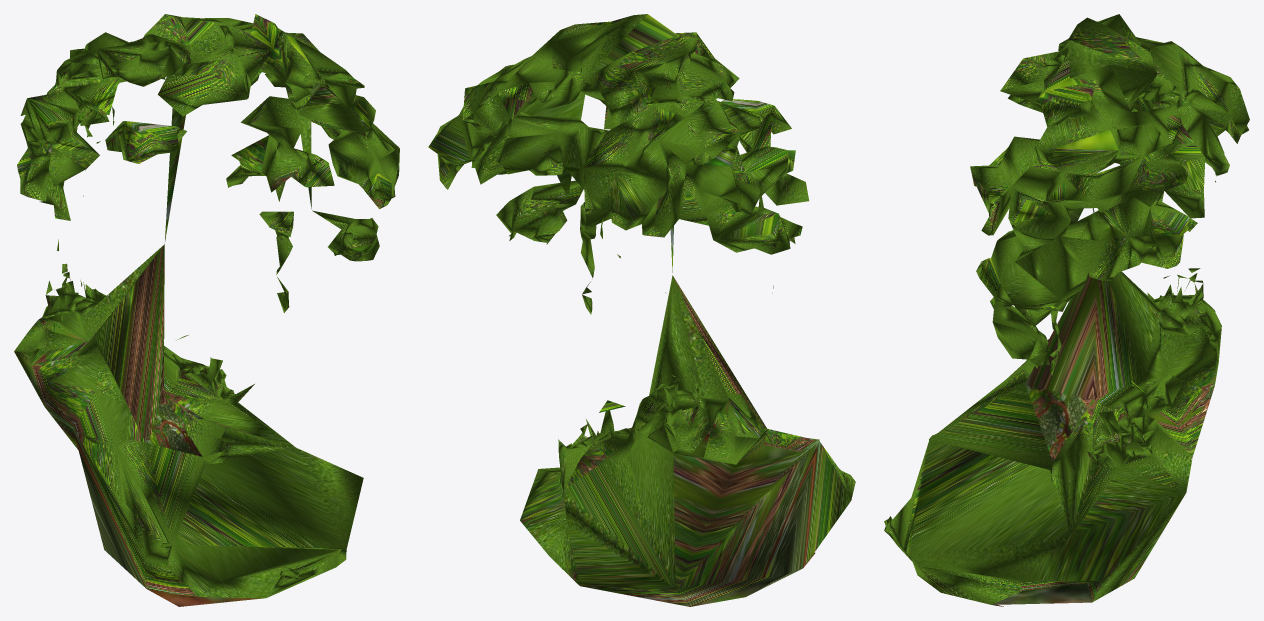
File: Whispering_Willow_of.glb
3 renders of one model, left to right at view 1: azimuth 30°, elevation 25°; view 2: azimuth 150°, elevation 25°; view 3: azimuth 270°, elevation 25°, orthographic. The views are drawn at different scales.
Visible parts, largest first — view 1: Whispering_Willow_of; view 2: Whispering_Willow_of; view 3: Whispering_Willow_of.
Boxes of the visible parts, left/top/right/bottom form: Whispering_Willow_of: left=14, top=14, right=399, bottom=606; Whispering_Willow_of: left=428, top=14, right=855, bottom=606; Whispering_Willow_of: left=884, top=14, right=1249, bottom=606.
Size of the model in its own units: 1.25 by 1.88 by 1.12.
Materials: 1 (1 with a texture image).
